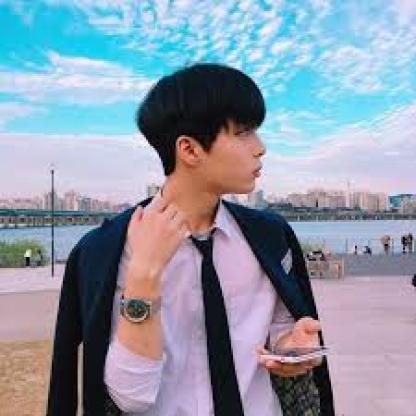person: (133, 61, 271, 210)
